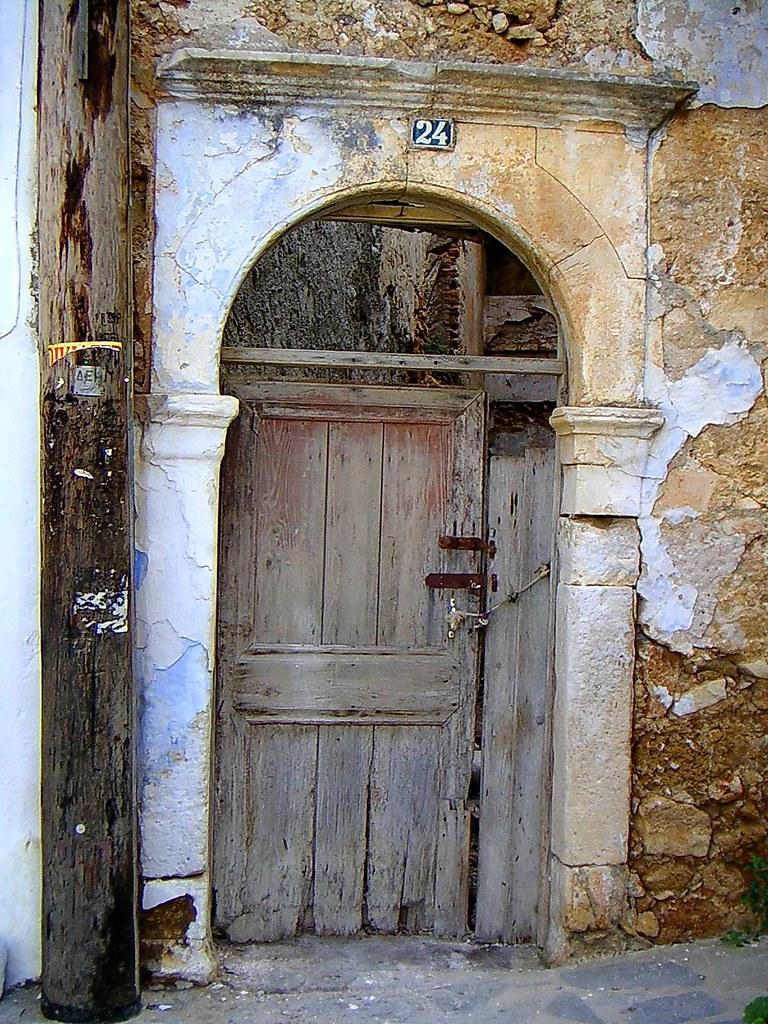door: (211, 375, 556, 949)
